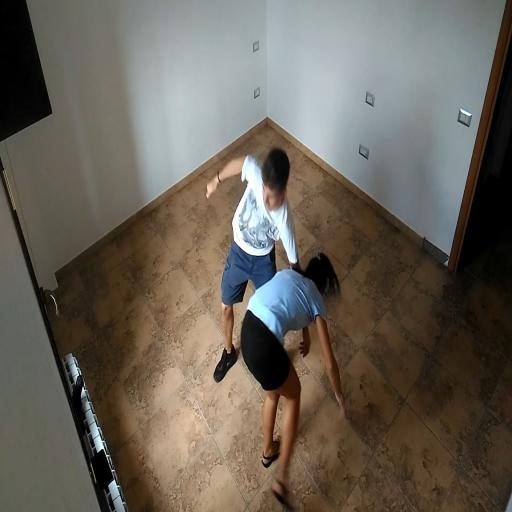violencia: (189, 129, 373, 512)
